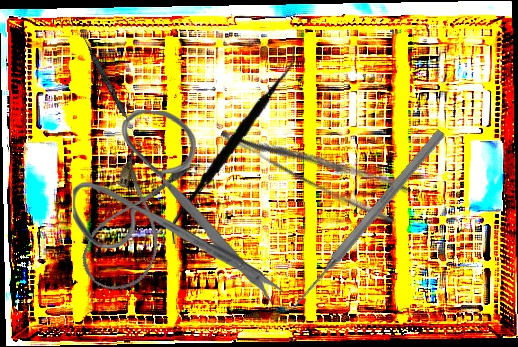Cannula: (73, 141, 195, 302)
Dressing Forceps: (218, 98, 411, 228)
Iris Scissors: (71, 109, 287, 303)
Pusher: (286, 126, 448, 315)
Spatula Surgical: (171, 40, 297, 250), (79, 35, 140, 138)
